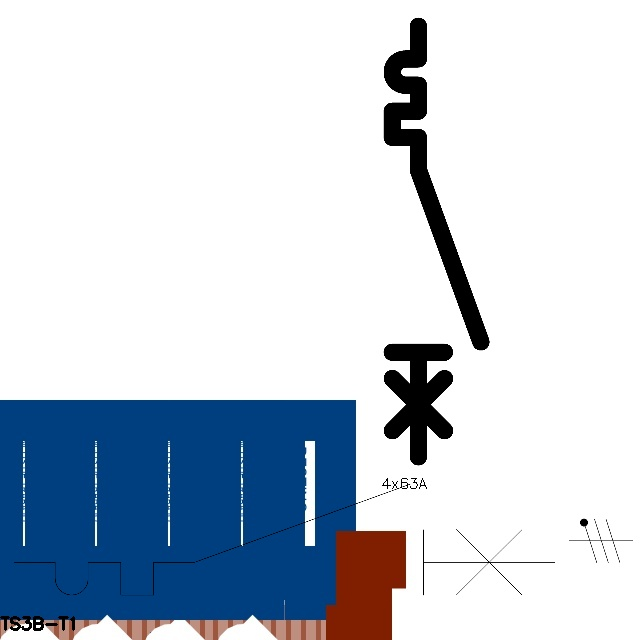interruptor_termomagnetico: (0, 470, 568, 609), (381, 15, 492, 468)
